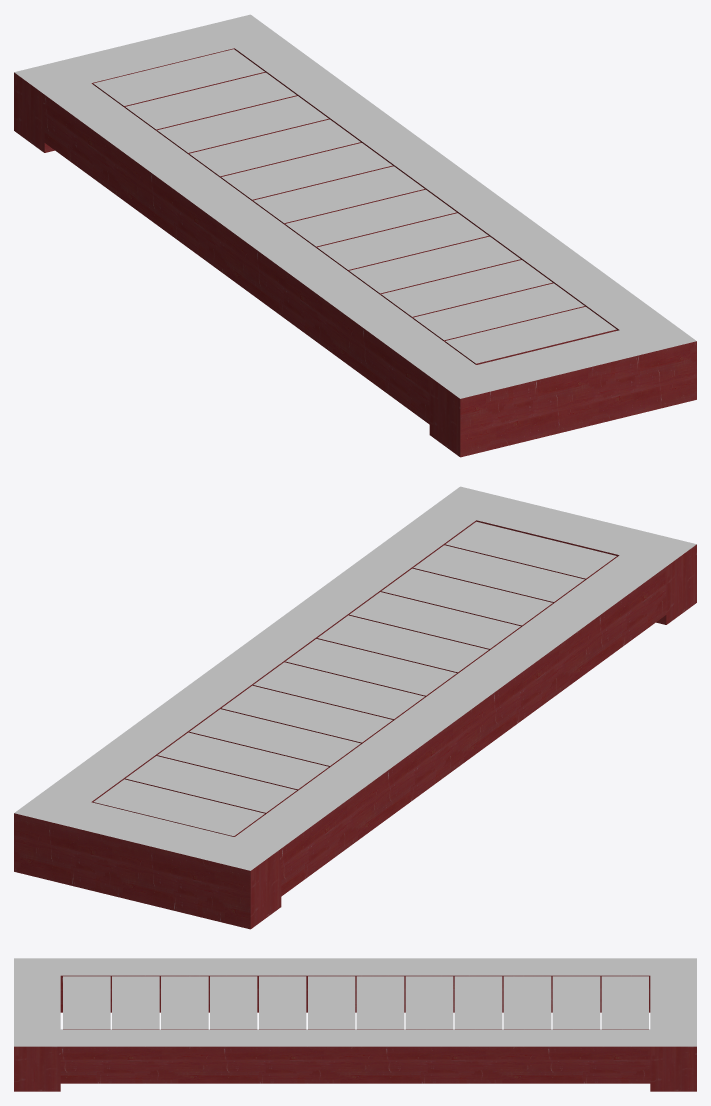
Rendered from SM_F_Wood_3.fbx.
The picture shows the model from 3 angles, top to bottom: view 1: azimuth 30°, elevation 25°; view 2: azimuth 150°, elevation 25°; view 3: azimuth 270°, elevation 25°; orthographic projection. The views are drawn at different scales.
Visible parts, largest first — view 1: SM_F_Wood_3_LOD0; view 2: SM_F_Wood_3_LOD0; view 3: SM_F_Wood_3_LOD0.
Boxes of the visible parts, x1,y1,x2,y2 form: SM_F_Wood_3_LOD0: (14, 14, 696, 457); SM_F_Wood_3_LOD0: (14, 486, 696, 929); SM_F_Wood_3_LOD0: (14, 958, 696, 1091).
Bounding box in the file's own units: 93.92 × 307 × 22.2.
